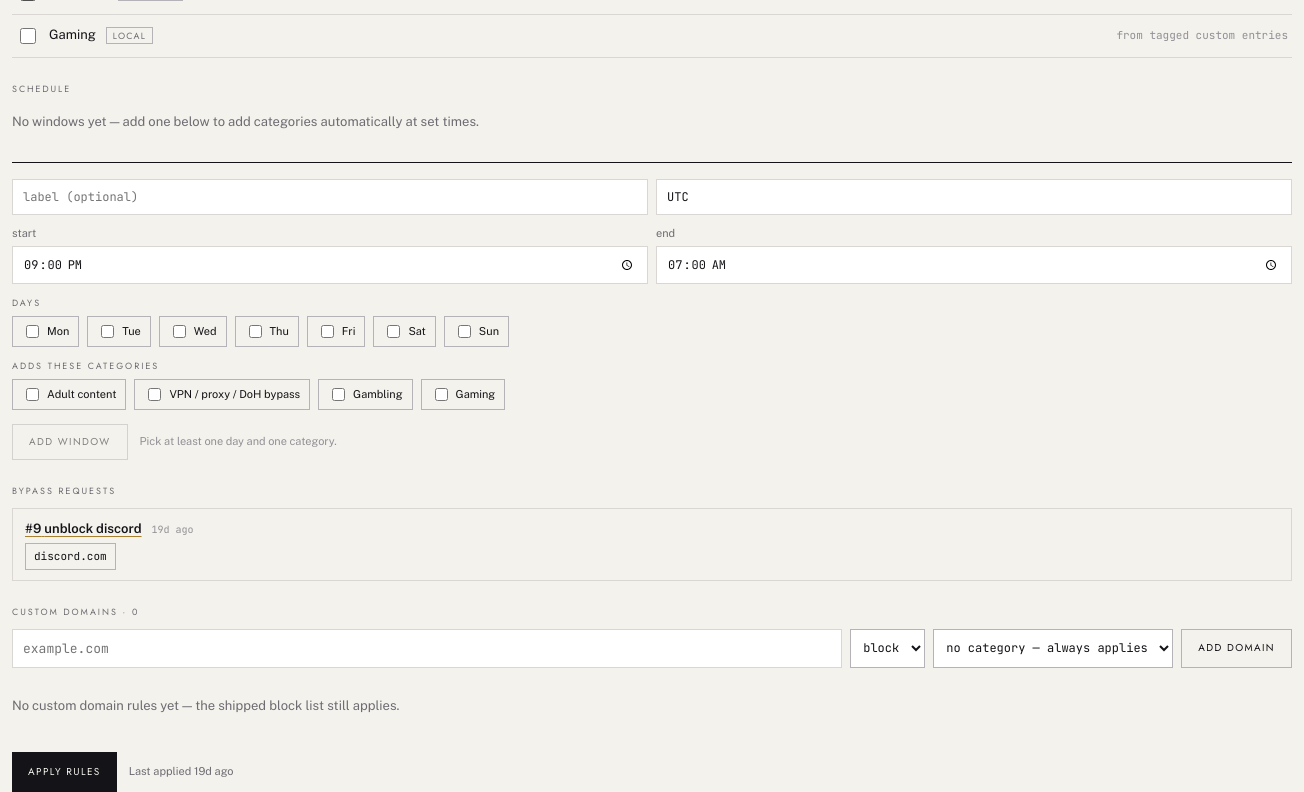
WebFilterBody — bypass requests › clicking a requested domain prefills the existing allow-domain form rather than granting directly
This screenshot has width=1304, height=792.
(page scrolled)
Click the button "discord.com": (70, 556) [25,543,116,570]
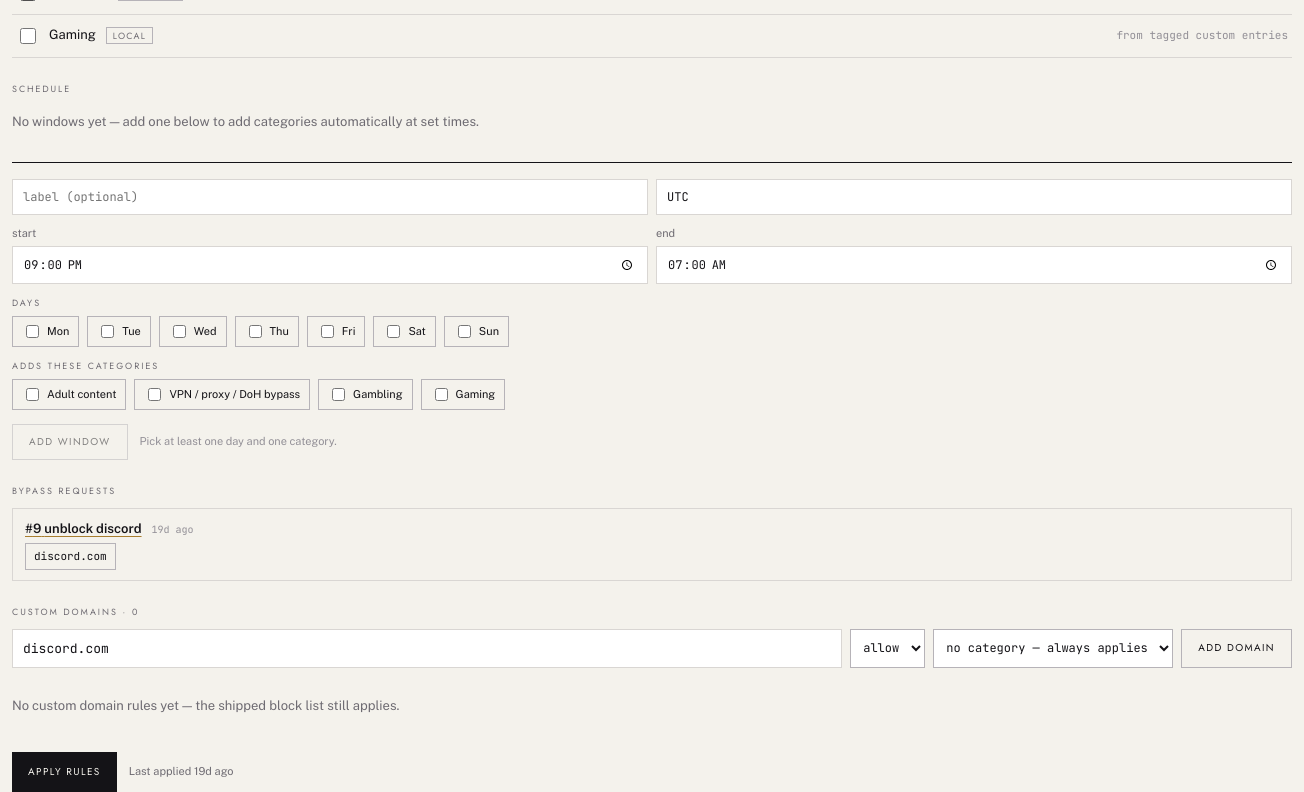
Expected: the field with placeholder "example.com" below "CUSTOM DOMAINS ·" holds "discord.com", [12,629,842,668]
